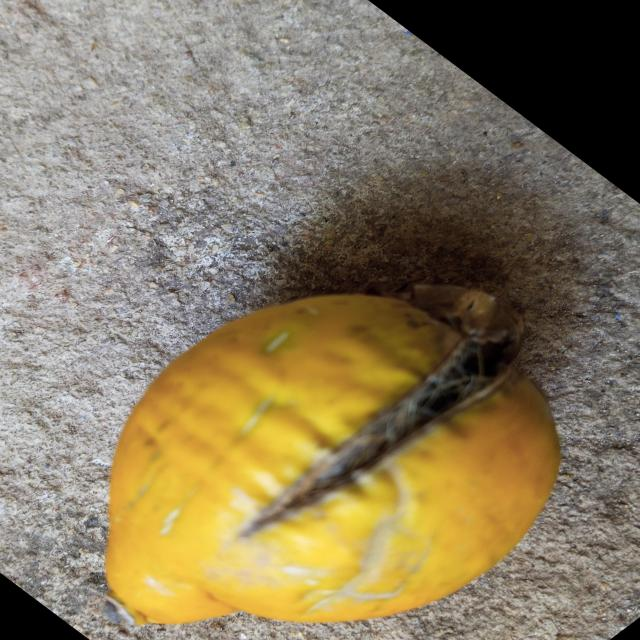damaged: (106, 294, 559, 625)
